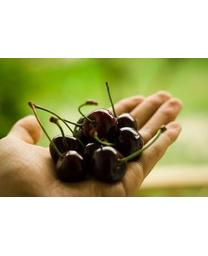cherry: (91, 146, 128, 184), (109, 128, 143, 162), (82, 110, 114, 143), (54, 151, 86, 181), (49, 133, 84, 160)
